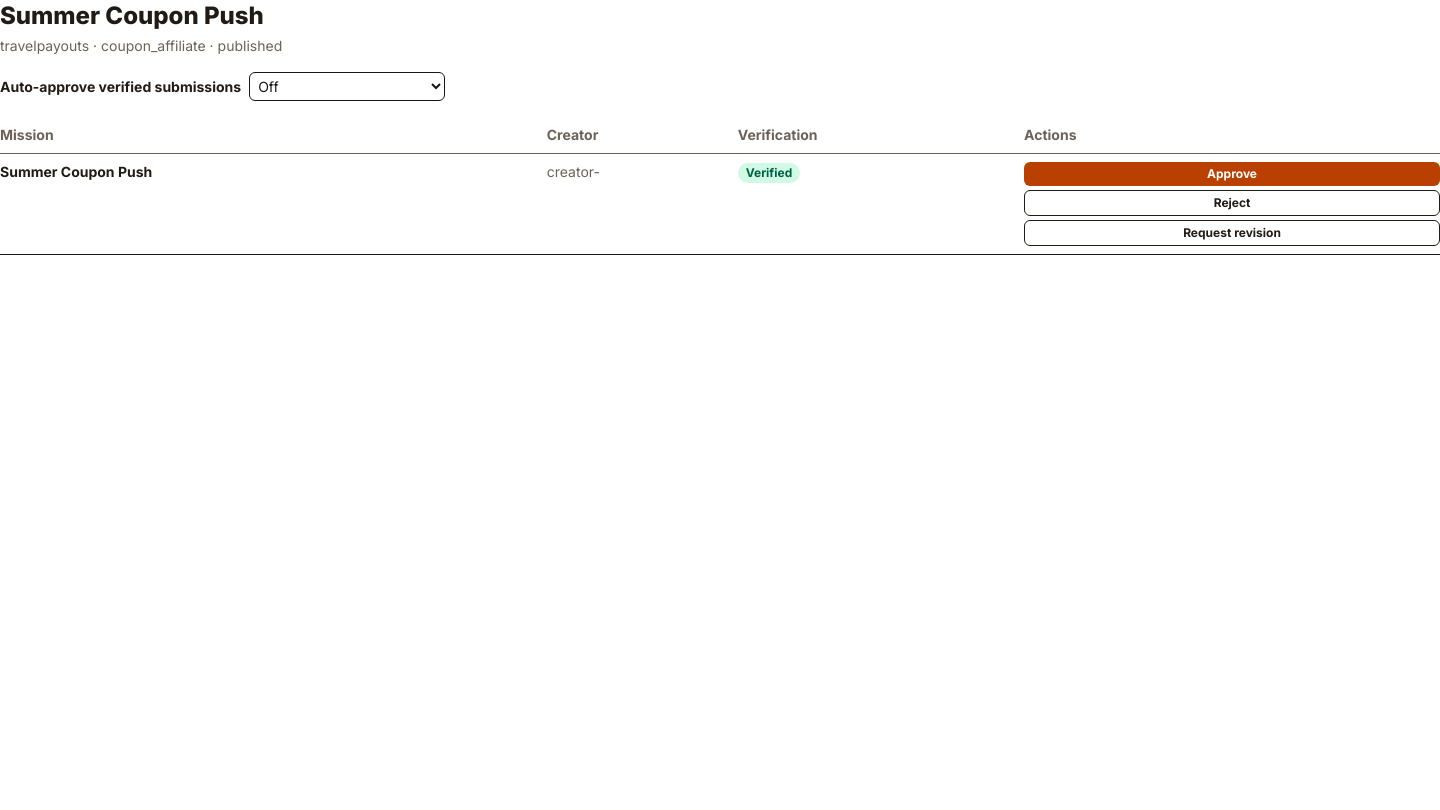
MissionDetailView › surfaces the server-returned error message instead of swallowing it
This screenshot has width=1440, height=810.
Click the button "Reject".
click(1232, 203)  # box [1024, 190, 1439, 216]
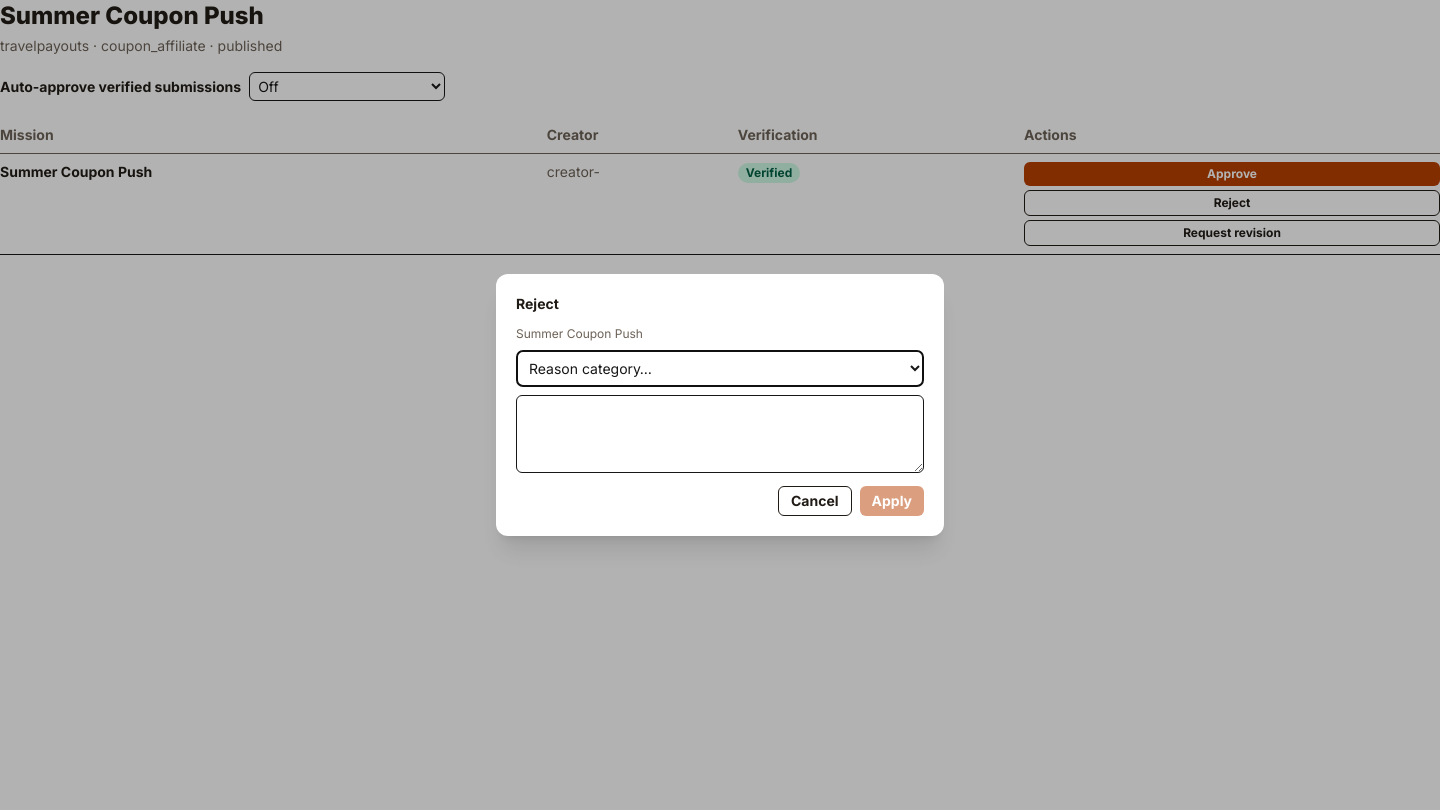
Select "Quality" in the dropdown at (720, 368), box [516, 350, 924, 387]
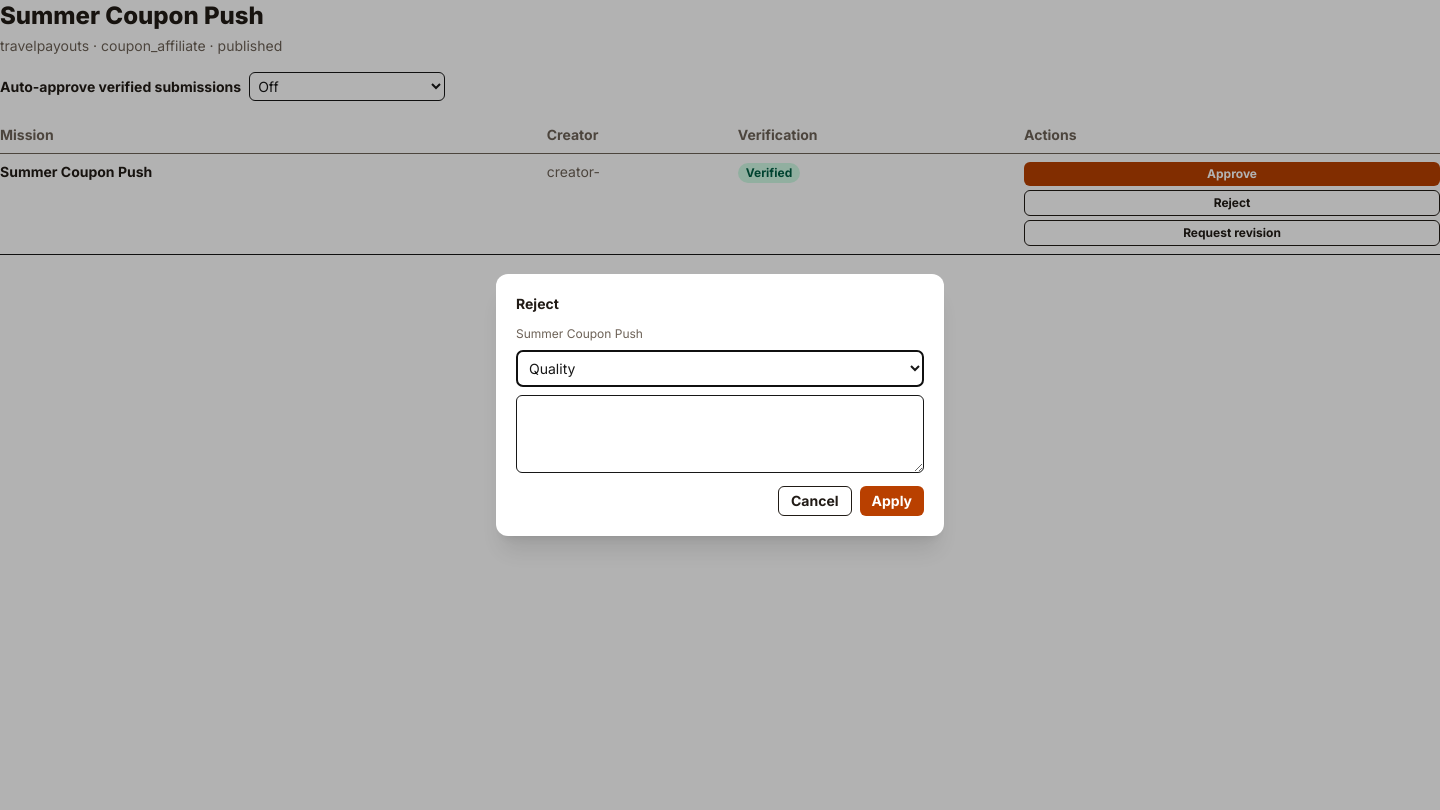
Click the button "Apply".
click(892, 501)  # box [860, 486, 924, 516]
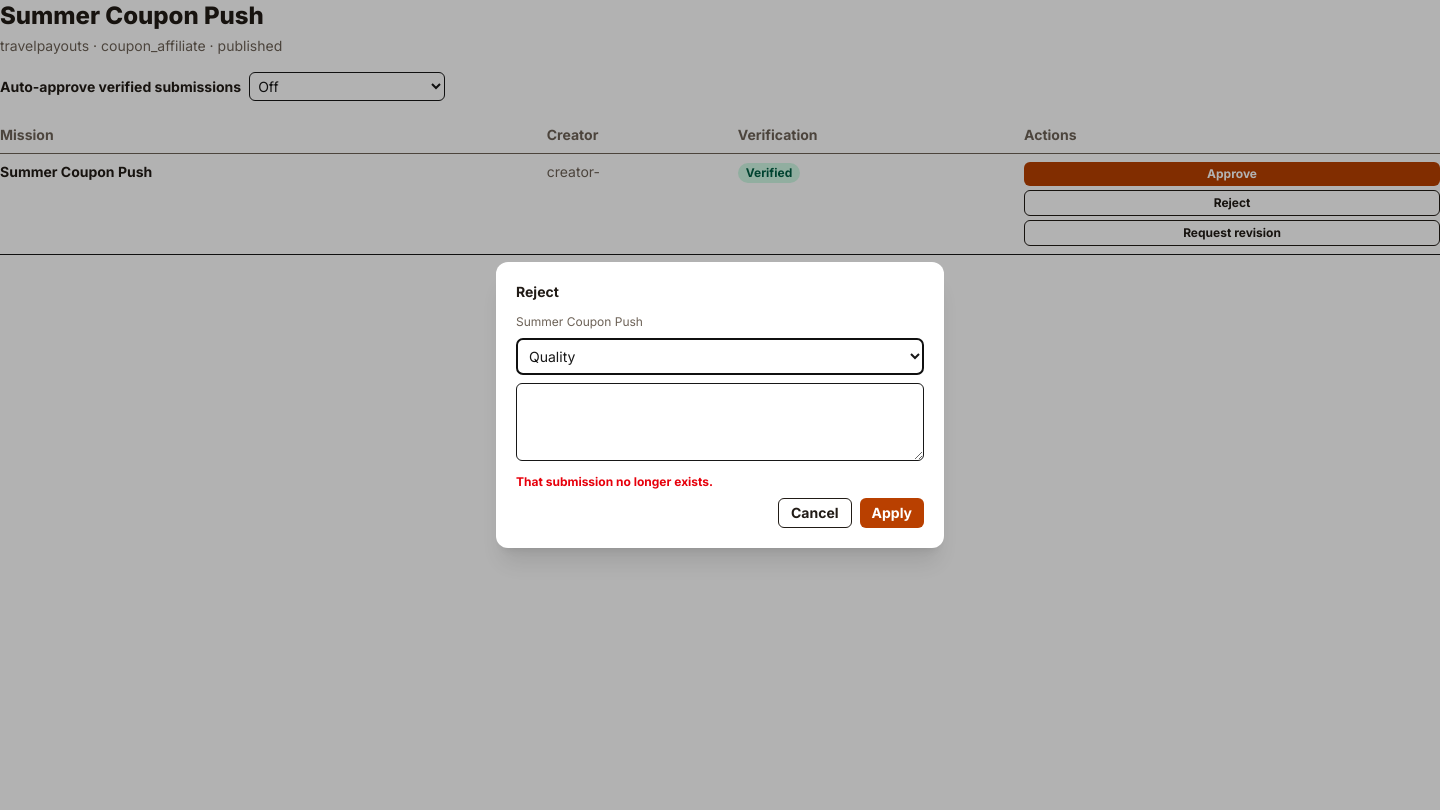
Result: the dialog is shown
Result: the text "That submission no longer exists." is shown at [516, 474, 713, 489]
